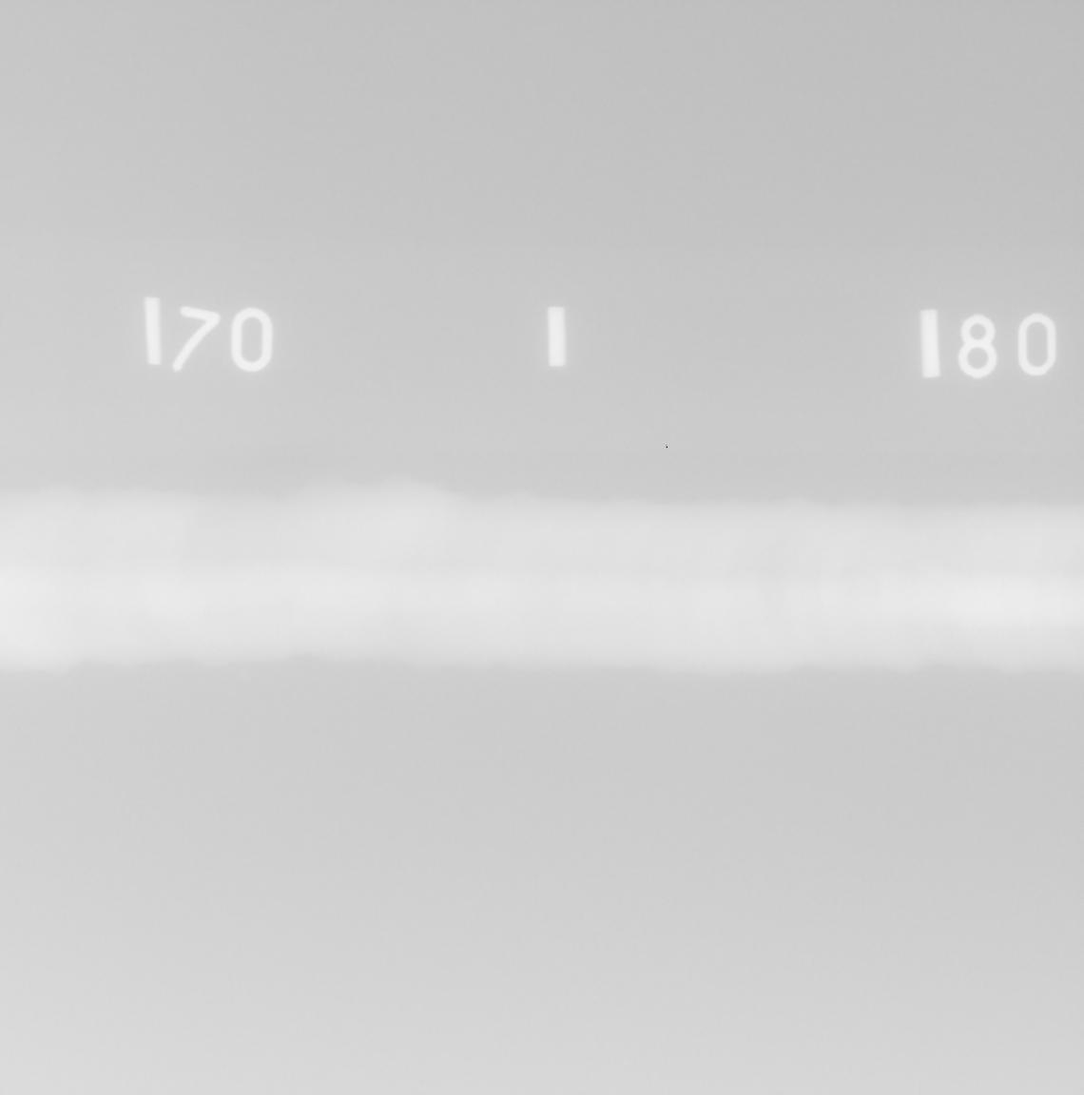Inclusion: (347, 592, 355, 600), (277, 628, 279, 637), (498, 573, 502, 576)
